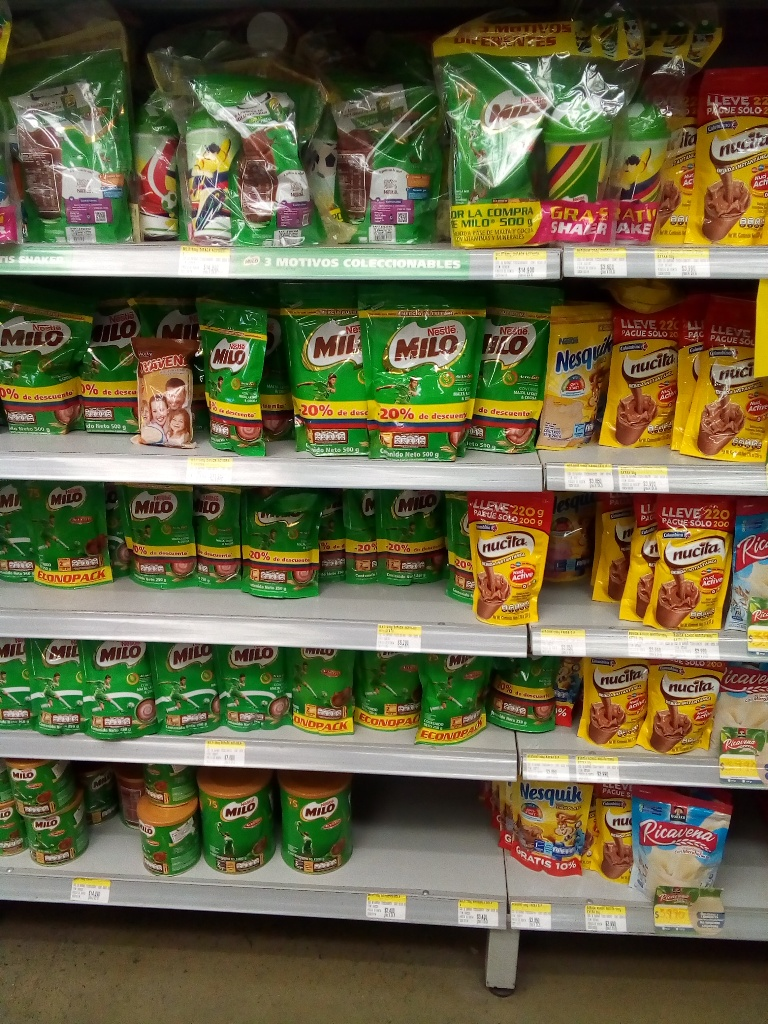COL0170203LAT40000: (135, 803, 199, 878)
